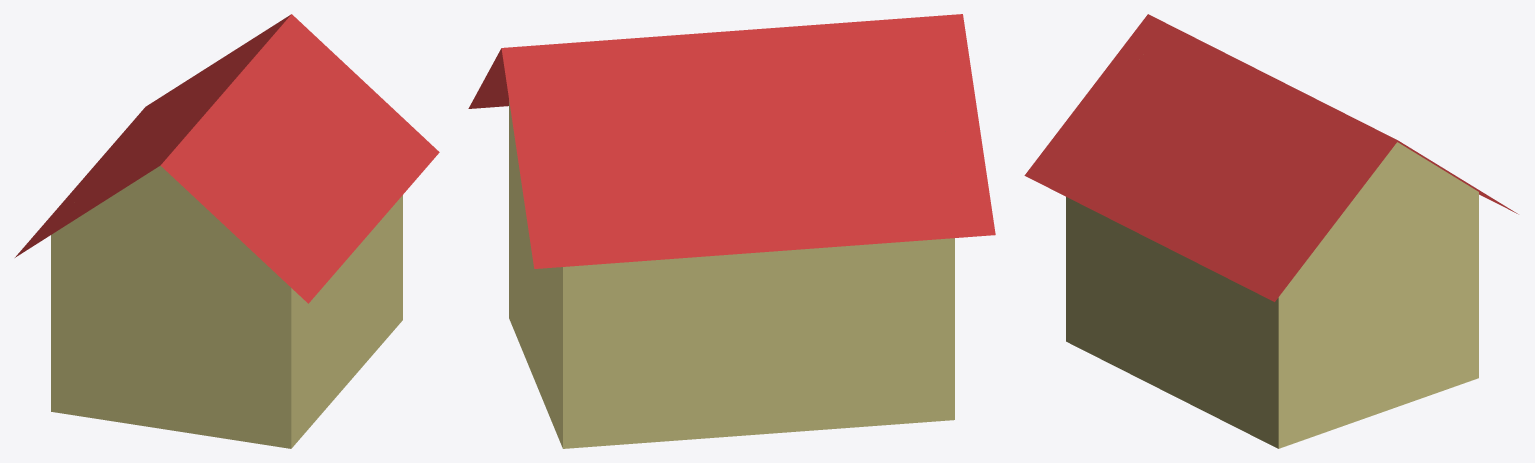
3 renders of one model, left to right at view 1: azimuth 30°, elevation 25°; view 2: azimuth 150°, elevation 25°; view 3: azimuth 270°, elevation 25°, orthographic. The views are drawn at different scales.
Bounding box in the file's own units: 17.16 × 16.86 × 10.58.
